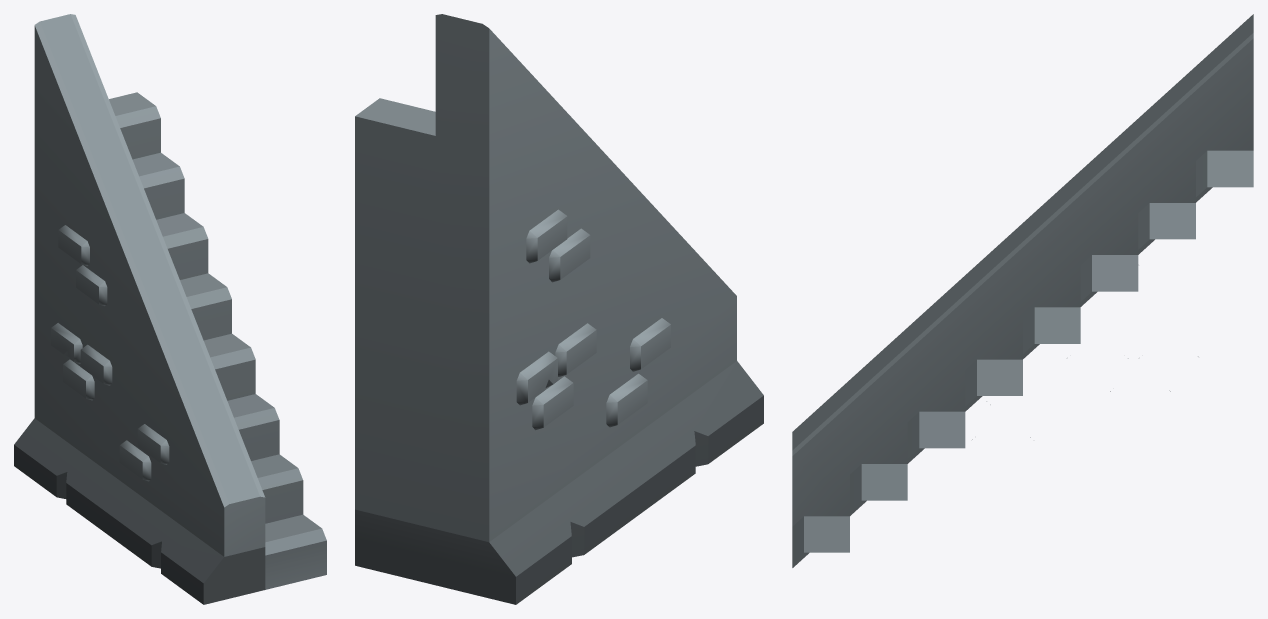
Rendered from stairs_modular_left.gltf.
3 renders of one model, left to right at view 1: azimuth 30°, elevation 25°; view 2: azimuth 150°, elevation 25°; view 3: azimuth 270°, elevation 25°, orthographic. The views are drawn at different scales.
Visible parts, largest first — view 1: stairs_modular_left; view 2: stairs_modular_left; view 3: stairs_modular_left.
Boxes of the visible parts, bbox=[...] form: stairs_modular_left: bbox=[14, 14, 326, 604]; stairs_modular_left: bbox=[355, 14, 763, 604]; stairs_modular_left: bbox=[792, 14, 1253, 567].
Size of the model in its own units: 1.5 by 5.1 by 4.
1 material, 1 textured.
